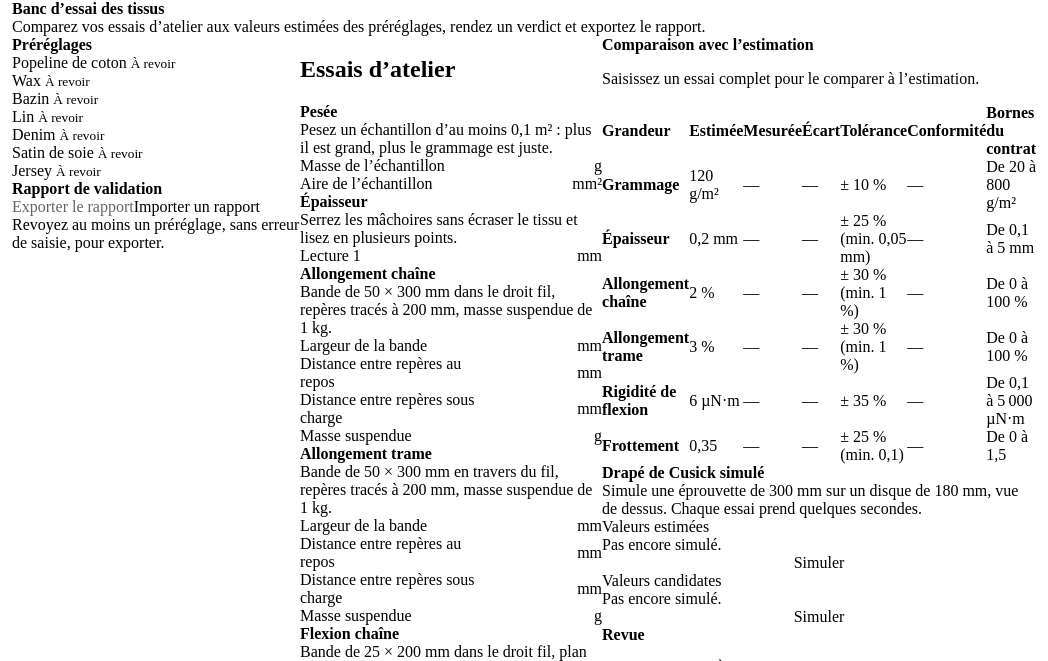
panneau de drapé simulé : drapé mesuré › pas de ligne « Mesuré » tant que rien n’est saisi
Click the 1st button "Simuler". click: (819, 563)
box: [602, 554, 1036, 572]
(page scrolled)
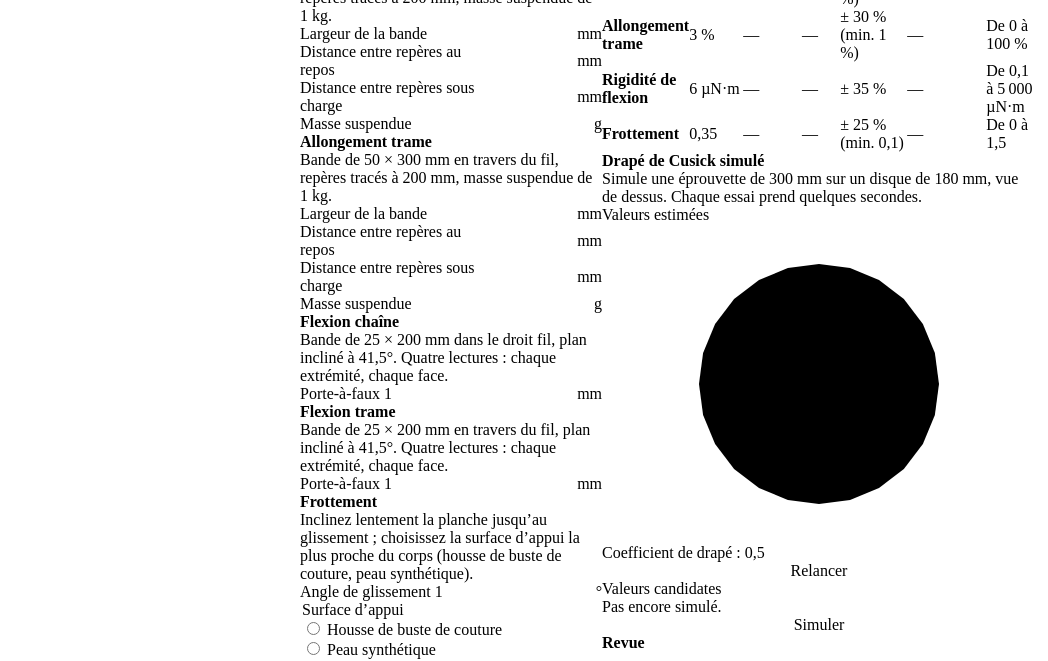
Check: the picture is shown, box [602, 224, 1036, 544]
